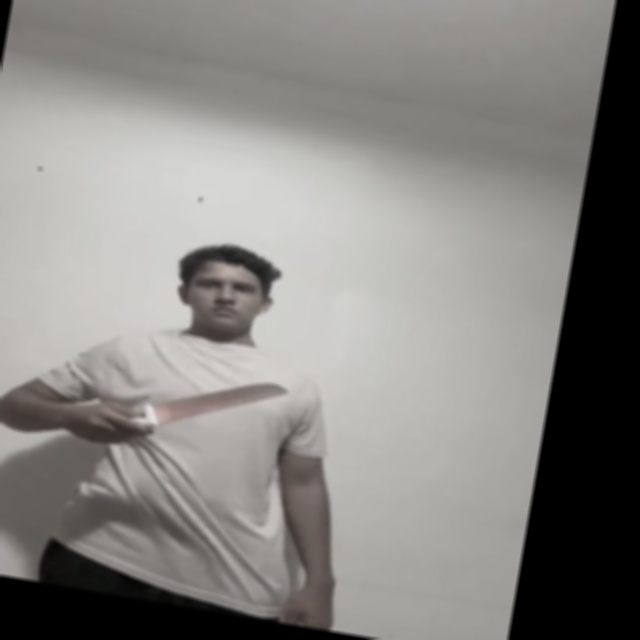Sharp-Object: (147, 361, 291, 440)
